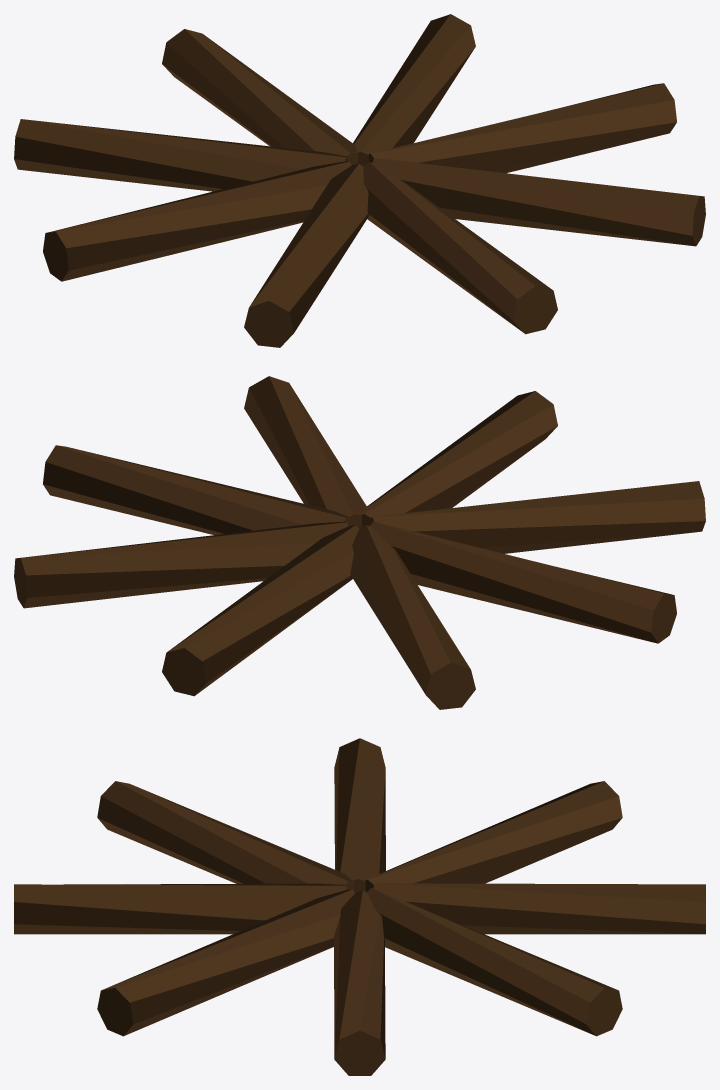
The model's file is FireUV.fbx.
3 renders of one model, top to bottom at view 1: azimuth 30°, elevation 25°; view 2: azimuth 150°, elevation 25°; view 3: azimuth 270°, elevation 25°, orthographic.
Visible parts, largest first — view 1: Cylinder; view 2: Cylinder; view 3: Cylinder.
Boxes of the visible parts, left/top/right/bottom form: Cylinder: left=14, top=14, right=705, bottom=347; Cylinder: left=14, top=376, right=705, bottom=709; Cylinder: left=14, top=738, right=705, bottom=1075.
Bounding box in the file's own units: 129 × 9.49 × 129.
